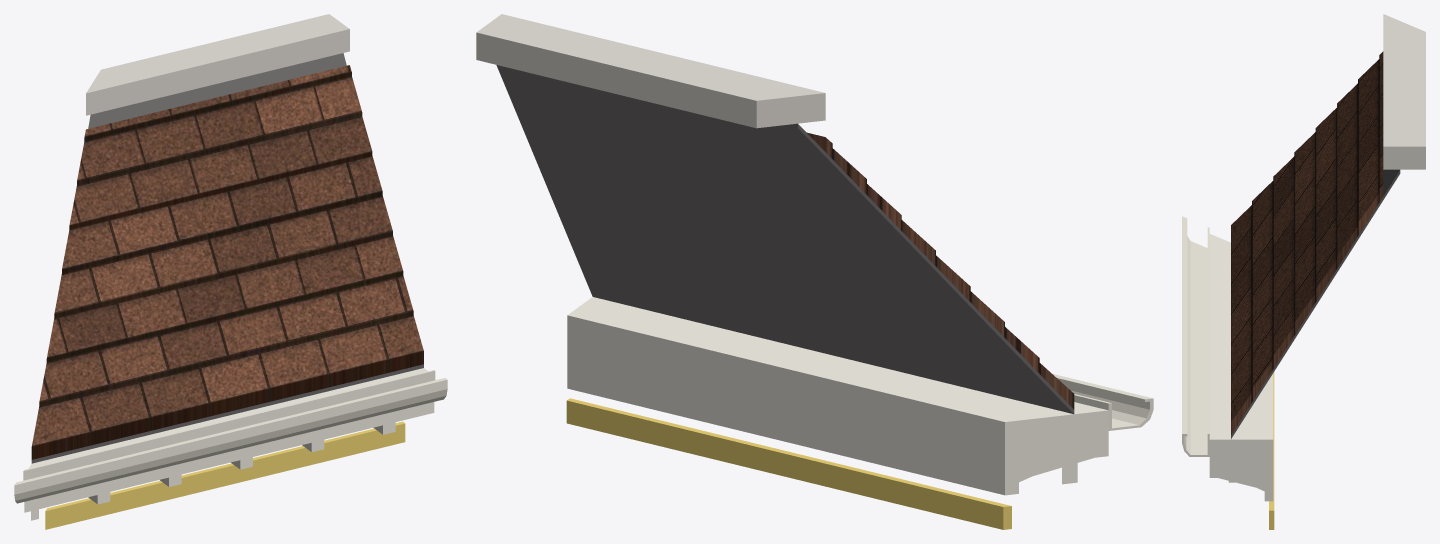
File: mans_a.glb
The picture shows the model from 3 angles, left to right: view 1: azimuth 30°, elevation 25°; view 2: azimuth 150°, elevation 25°; view 3: azimuth 270°, elevation 25°; orthographic projection. The views are drawn at different scales.
Visible parts, largest first — view 1: mans_a_shingles, mans_a_gutter, mans_a_cill, mans_a_trim, mans_a_accent, mans_a_dark; view 2: mans_a_dark, mans_a_trim, mans_a_cill, mans_a_accent, mans_a_shingles, mans_a_gutter; view 3: mans_a_shingles, mans_a_trim, mans_a_cill, mans_a_gutter, mans_a_dark, mans_a_accent.
Part boxes in pixels (x1,y1,x2,y2): mans_a_shingles: (31,65,423,459); mans_a_gutter: (14,370,447,503); mans_a_cill: (86,14,349,115); mans_a_trim: (24,368,434,520); mans_a_accent: (45,421,405,529); mans_a_dark: (31,53,423,463); mans_a_dark: (496,65,1074,414); mans_a_trim: (567,297,1108,495); mans_a_cill: (476,14,825,128); mans_a_accent: (566,398,1011,529); mans_a_shingles: (807,132,1074,409); mans_a_gutter: (1052,373,1153,430); mans_a_shingles: (1231,51,1383,434); mans_a_trim: (1209,234,1273,501); mans_a_cill: (1383,14,1425,169); mans_a_gutter: (1182,216,1209,456); mans_a_dark: (1231,169,1400,438); mans_a_accent: (1269,372,1274,529).
Size of the model in its own units: 2.43 by 2 by 1.15.
Materials: 6 (1 with a texture image).
